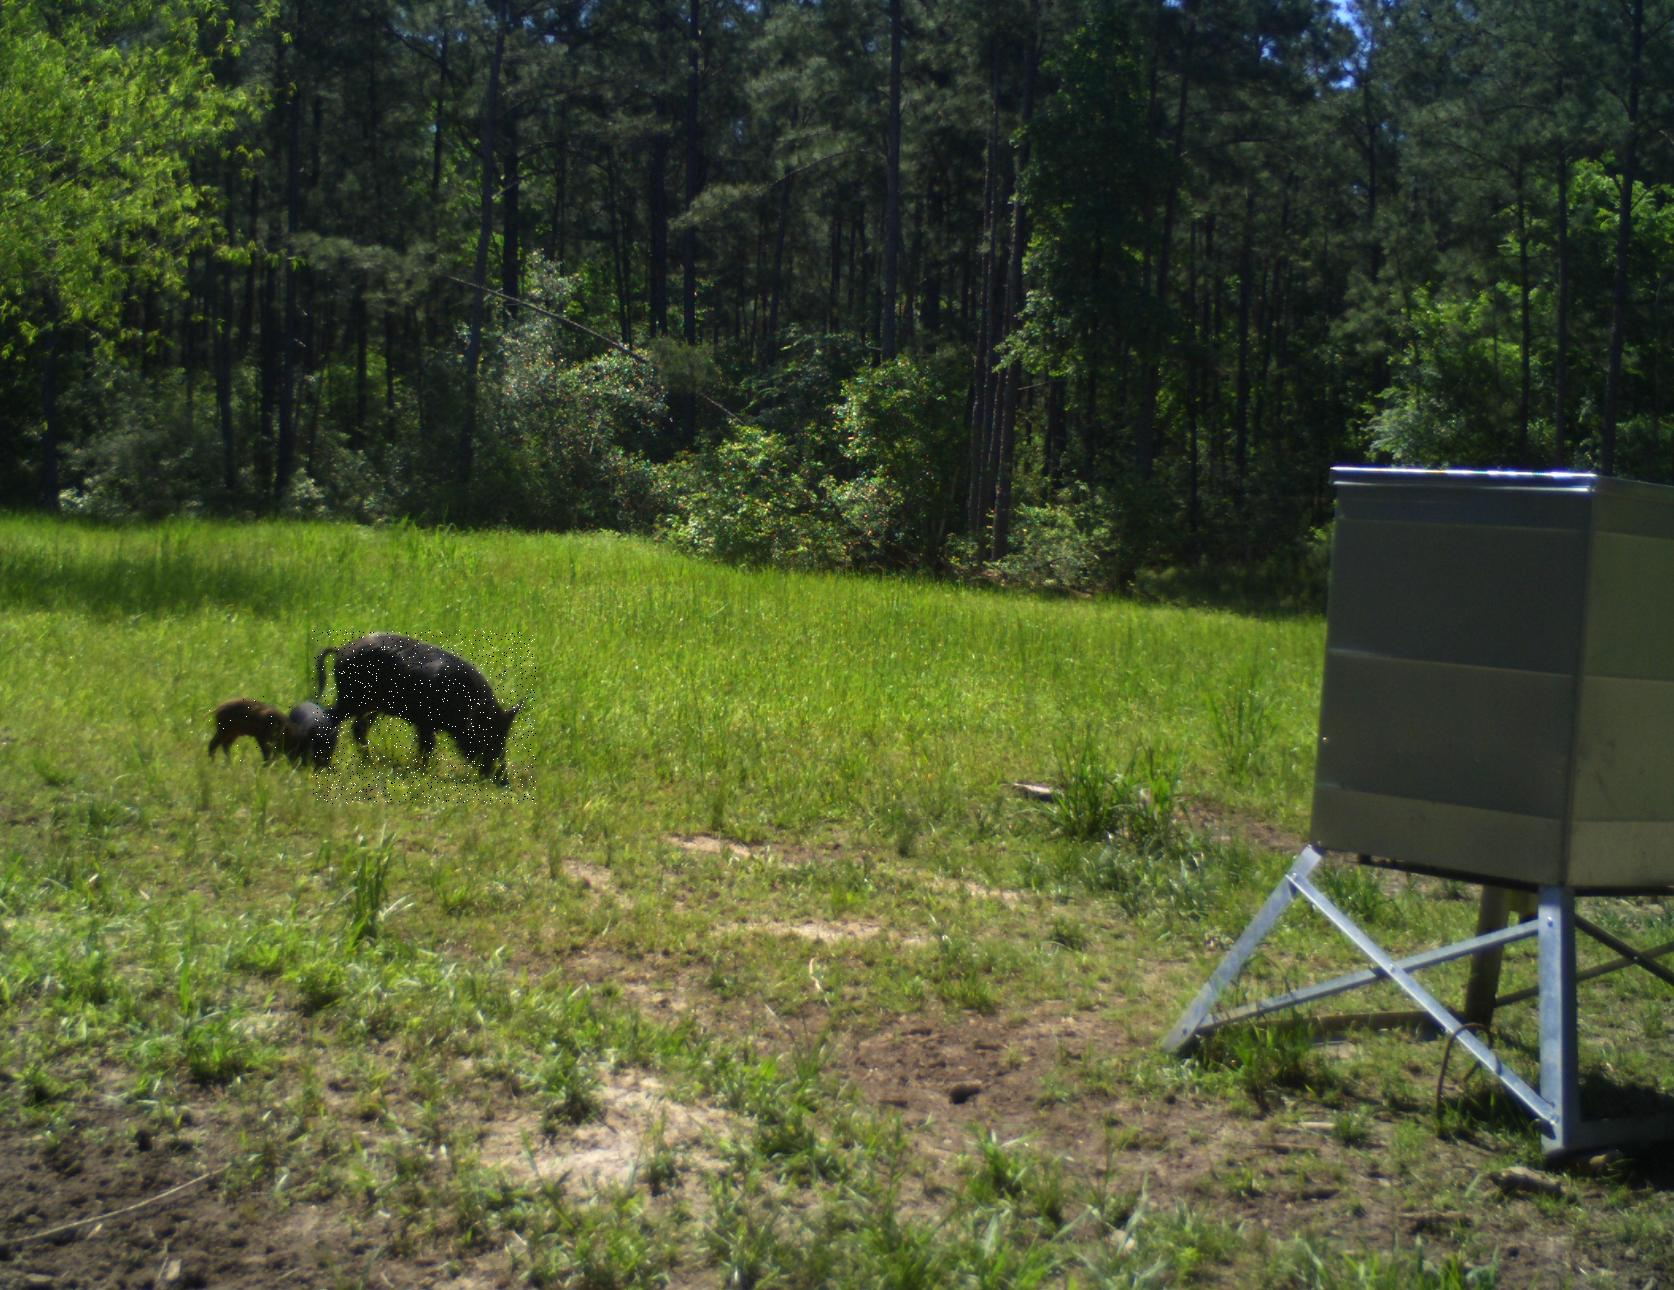Hog: (313, 630, 536, 804), (206, 692, 294, 762)
